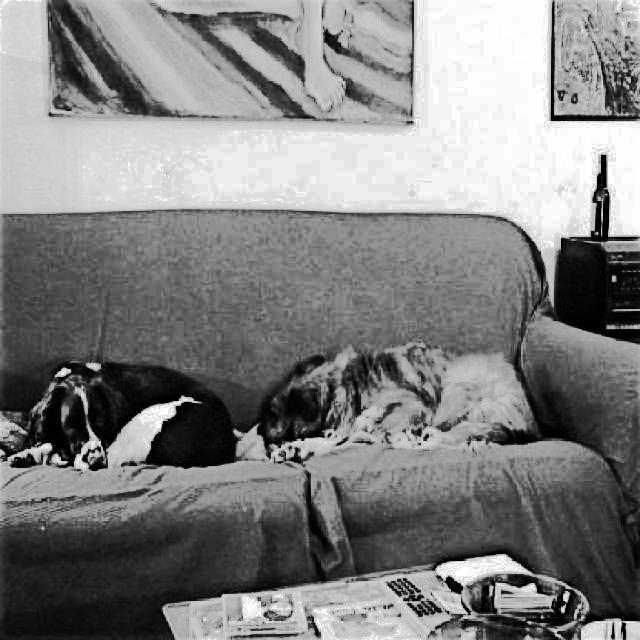Dog: (247, 333, 547, 470), (5, 348, 236, 479)
